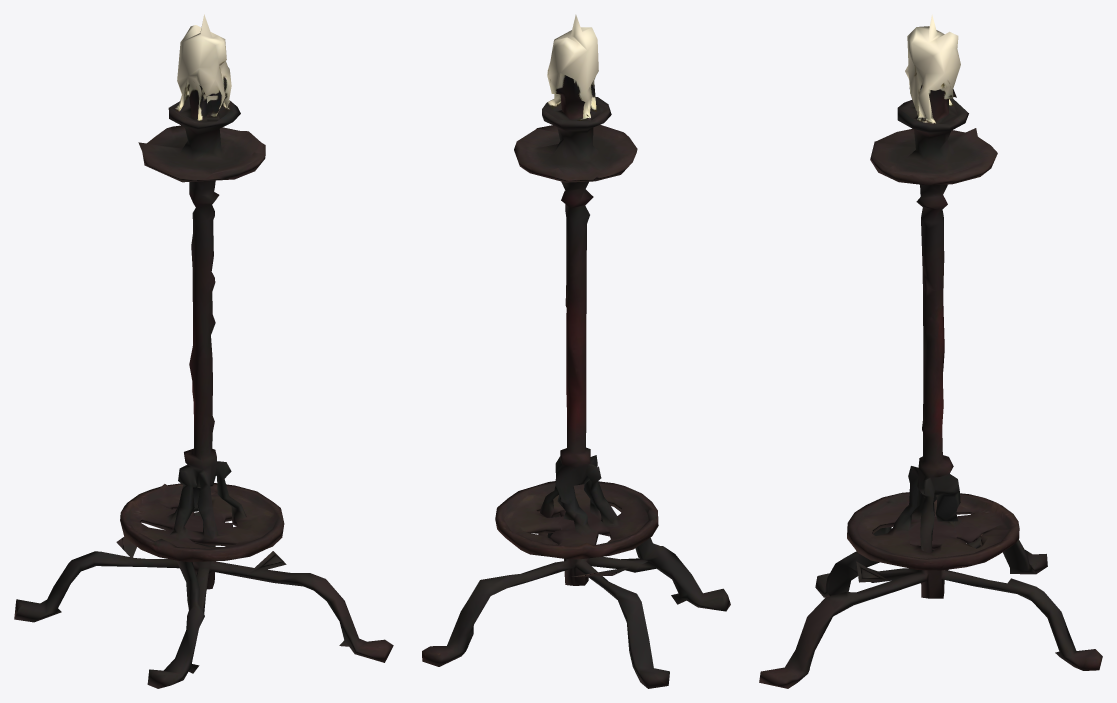
Rendered from candlestick.glb.
3 views of the same model, side by side, from view 1: azimuth 30°, elevation 25°; view 2: azimuth 150°, elevation 25°; view 3: azimuth 270°, elevation 25° (orthographic). The views are drawn at different scales.
Parts seen in each view (by area): view 1: tripo_node_ceae8df1-e266-4b08-a30b-a7cd4df4d89e; view 2: tripo_node_ceae8df1-e266-4b08-a30b-a7cd4df4d89e; view 3: tripo_node_ceae8df1-e266-4b08-a30b-a7cd4df4d89e.
Boxes of the visible parts, x1,y1,x2,y2 form: tripo_node_ceae8df1-e266-4b08-a30b-a7cd4df4d89e: [14, 14, 393, 688]; tripo_node_ceae8df1-e266-4b08-a30b-a7cd4df4d89e: [422, 14, 730, 688]; tripo_node_ceae8df1-e266-4b08-a30b-a7cd4df4d89e: [759, 14, 1102, 688].
Size of the model in its own units: 0.4371 by 1 by 0.5004.
Materials: 1 (1 with a texture image).
